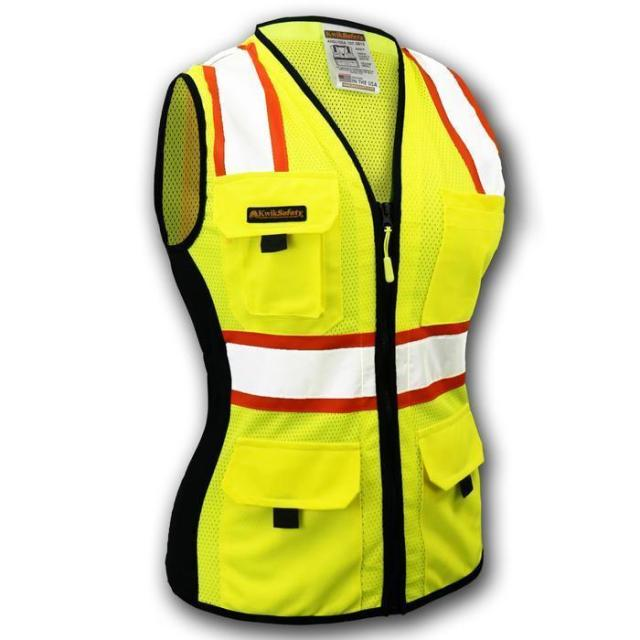Vest: (155, 11, 508, 618)
